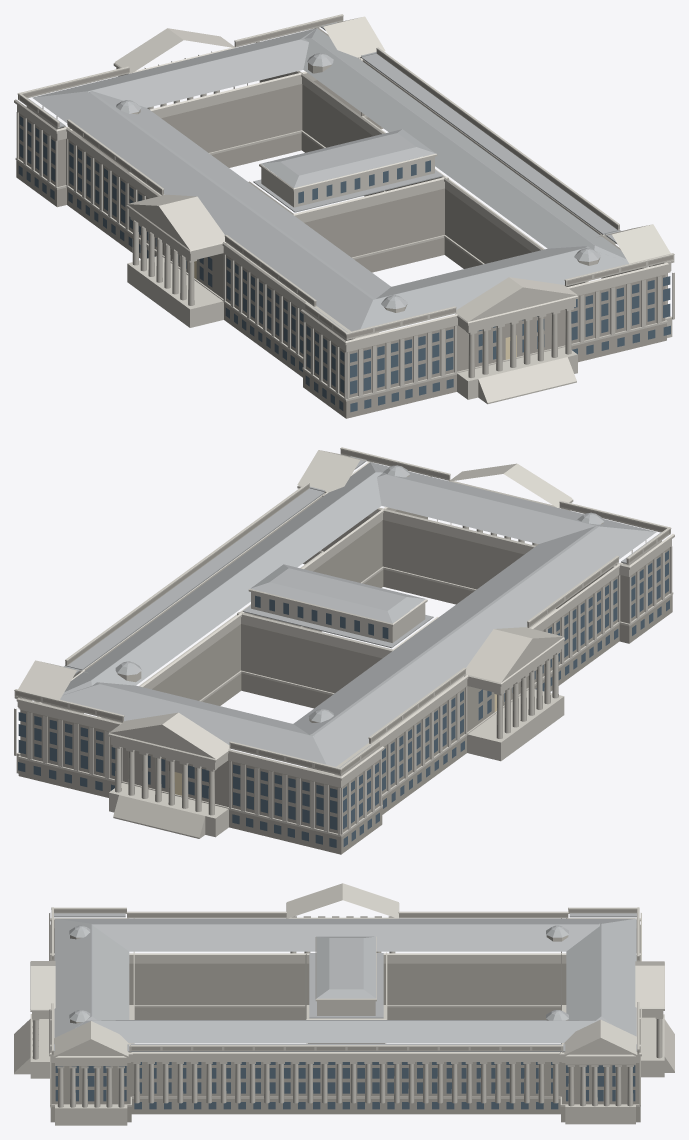
3 views of the same model, one above another, from view 1: azimuth 30°, elevation 25°; view 2: azimuth 150°, elevation 25°; view 3: azimuth 270°, elevation 25° (orthographic). The views are drawn at different scales.
Visible parts, largest first — view 1: treasury-building; view 2: treasury-building; view 3: treasury-building.
Part boxes in pixels (x1=…): treasury-building: x1=14, y1=14, x2=674, y2=418; treasury-building: x1=14, y1=447, x2=674, y2=854; treasury-building: x1=14, y1=883, x2=674, y2=1125.
Size of the model in its own units: 87.5 by 24.2 by 158.
